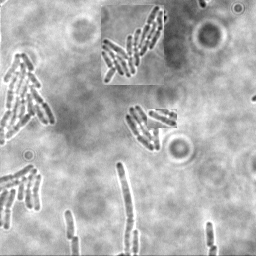Dividing: (114, 161, 133, 255), (204, 221, 215, 248)
Microcolony: (1, 51, 56, 147), (101, 5, 164, 85), (1, 162, 44, 231), (124, 106, 160, 153), (63, 208, 74, 240)
Rod: (147, 109, 177, 128)
